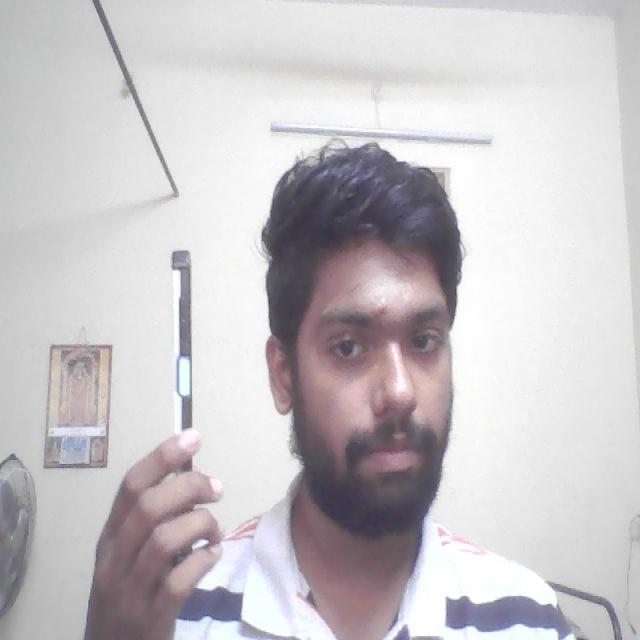Mobile: (158, 240, 202, 429)
